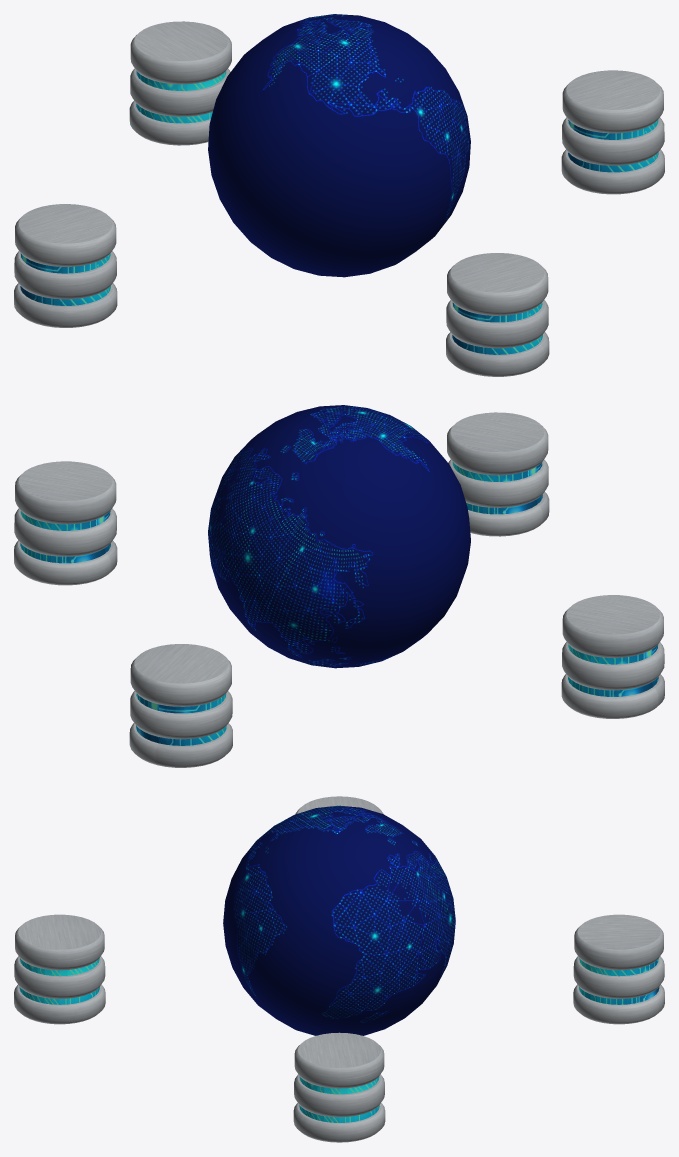
Rendered from escena1.gltf.
3 renders of one model, top to bottom at view 1: azimuth 30°, elevation 25°; view 2: azimuth 150°, elevation 25°; view 3: azimuth 270°, elevation 25°, orthographic. The views are drawn at different scales.
Visible parts, largest first — view 1: Sphere, Cylinder.002, Cylinder.003, Cylinder.000, Cylinder.001; view 2: Sphere, Cylinder.002, Cylinder.003, Cylinder.001, Cylinder.000; view 3: Sphere, Cylinder.002, Cylinder.000, Cylinder.001, Cylinder.003.
Boxes of the visible parts, box(x1,y1,x2,y2) form: Sphere: box(208, 14, 470, 277); Cylinder.002: box(561, 70, 664, 194); Cylinder.003: box(14, 204, 117, 327); Cylinder.000: box(446, 253, 549, 376); Cylinder.001: box(129, 21, 231, 145); Sphere: box(208, 405, 470, 668); Cylinder.002: box(14, 461, 117, 585); Cylinder.003: box(561, 595, 664, 718); Cylinder.001: box(129, 644, 232, 767); Cylinder.000: box(447, 412, 549, 536); Sphere: box(223, 805, 455, 1035); Cylinder.002: box(293, 1032, 385, 1142); Cylinder.000: box(14, 914, 105, 1024); Cylinder.001: box(573, 914, 664, 1024); Cylinder.003: box(295, 796, 383, 814).
Size of the model in its own units: 13.97 by 4.98 by 13.97.
Materials: 9 (9 with a texture image).
